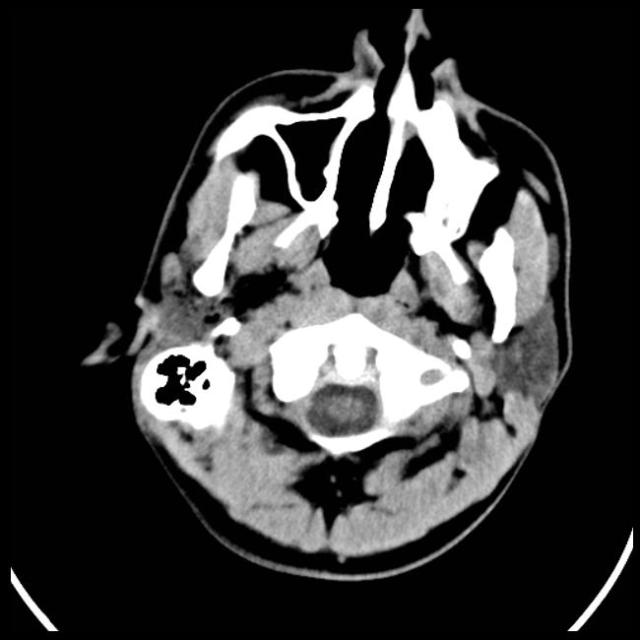lesion: (83, 10, 579, 580)
